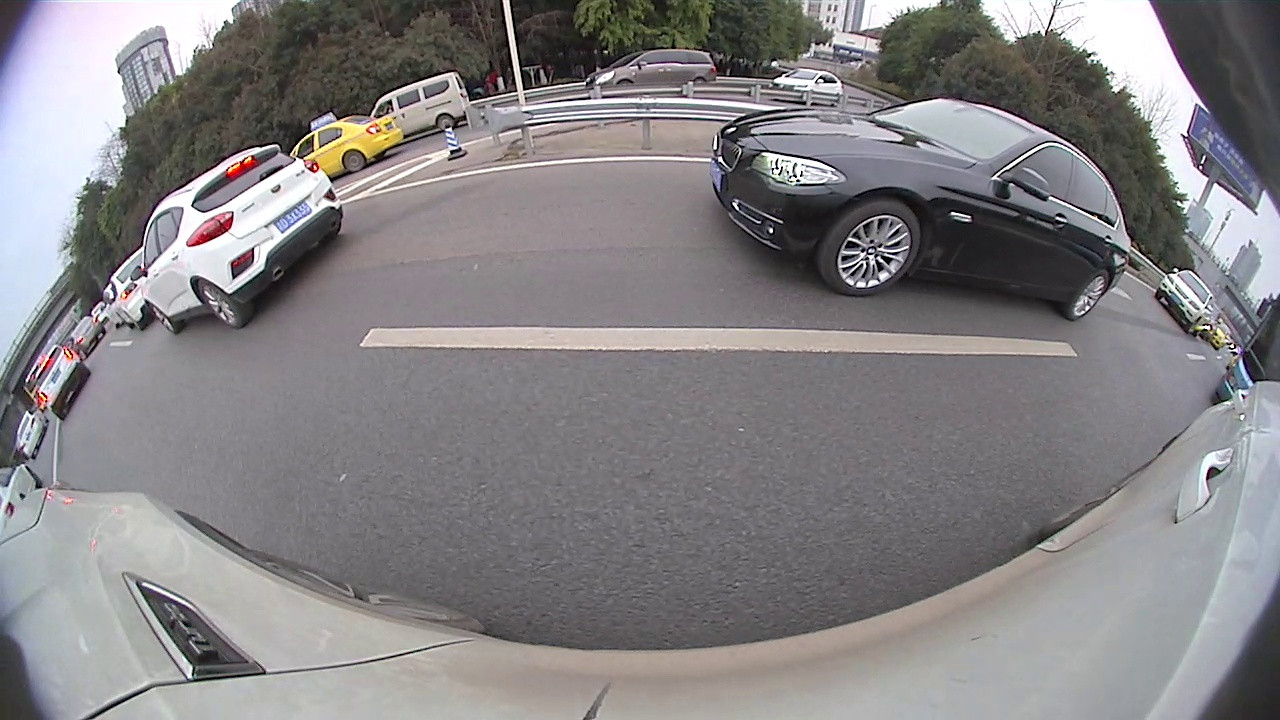car: (708, 97, 1134, 322), (134, 141, 345, 336), (283, 110, 407, 180), (368, 68, 474, 137), (582, 46, 720, 95), (102, 244, 162, 334), (27, 341, 90, 421), (1155, 265, 1220, 339), (766, 65, 847, 104), (10, 408, 51, 464)
front: (814, 198, 922, 300), (148, 301, 181, 335)
rear: (196, 275, 250, 330), (1064, 266, 1111, 324), (341, 148, 369, 173), (435, 113, 457, 133)
